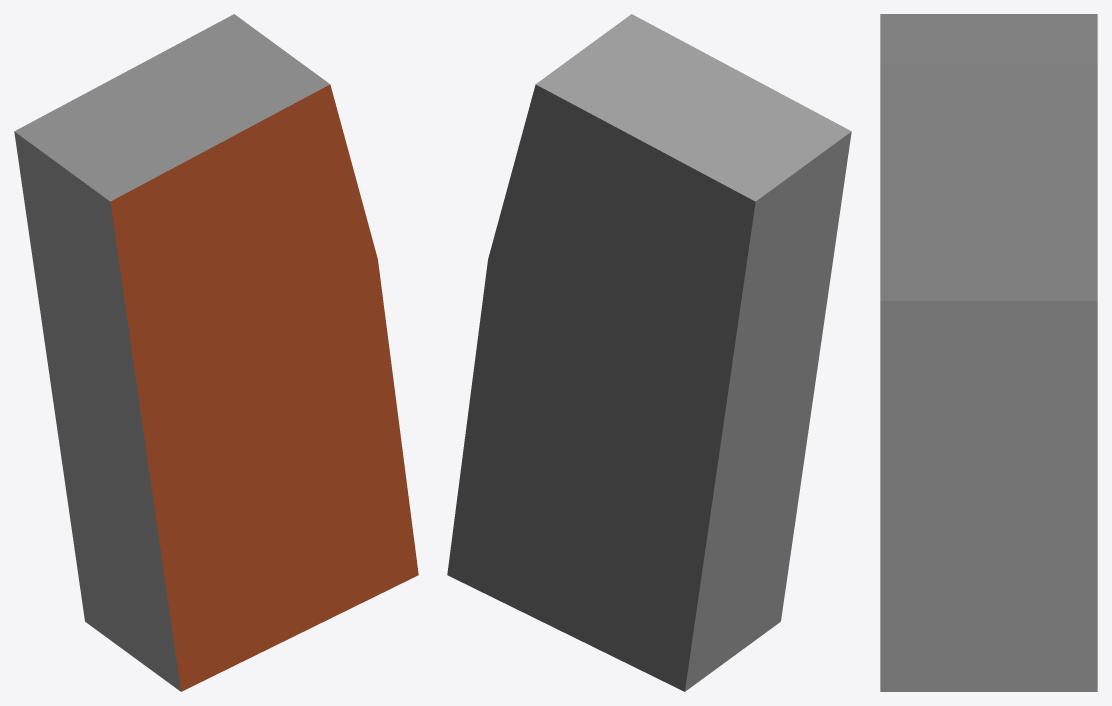
Rendered from construction_2127_assumed_A_Casa_h6m.obj.
3 renders of one model, left to right at view 1: azimuth 30°, elevation 25°; view 2: azimuth 150°, elevation 25°; view 3: azimuth 270°, elevation 25°, orthographic. The views are drawn at different scales.
Visible parts, largest first — view 1: construction_2127_assumed_A_Casa; view 2: construction_2127_assumed_A_Casa; view 3: construction_2127_assumed_A_Casa.
Part boxes in pixels (x1,y1,x2,y2): construction_2127_assumed_A_Casa: (14,14,418,691); construction_2127_assumed_A_Casa: (447,14,851,691); construction_2127_assumed_A_Casa: (880,14,1097,691).
Size of the model in its own units: 11.12 by 19.68 by 6.
